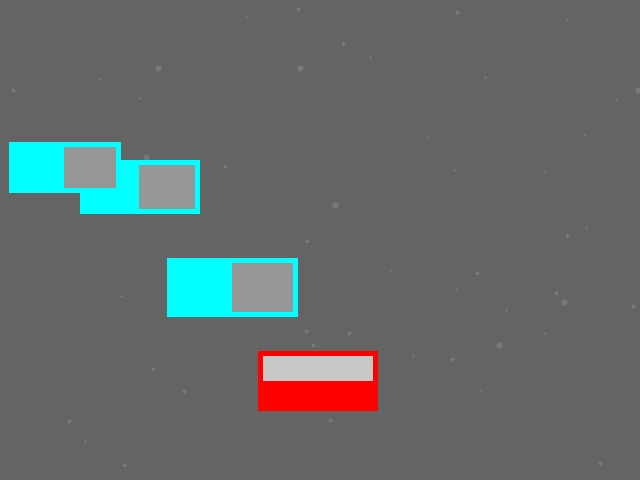car: (258, 351, 377, 410)
truck: (167, 258, 297, 316), (80, 160, 199, 213), (9, 142, 120, 192)
